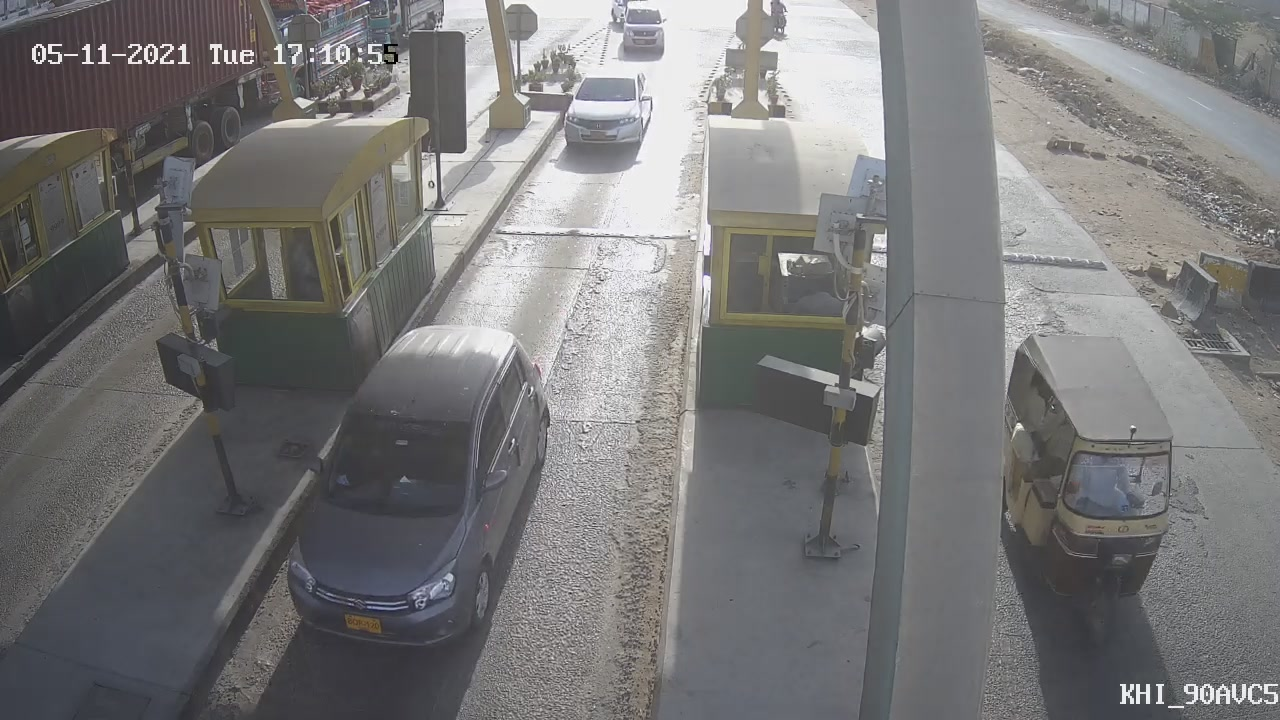F1: (538, 51, 672, 170)
